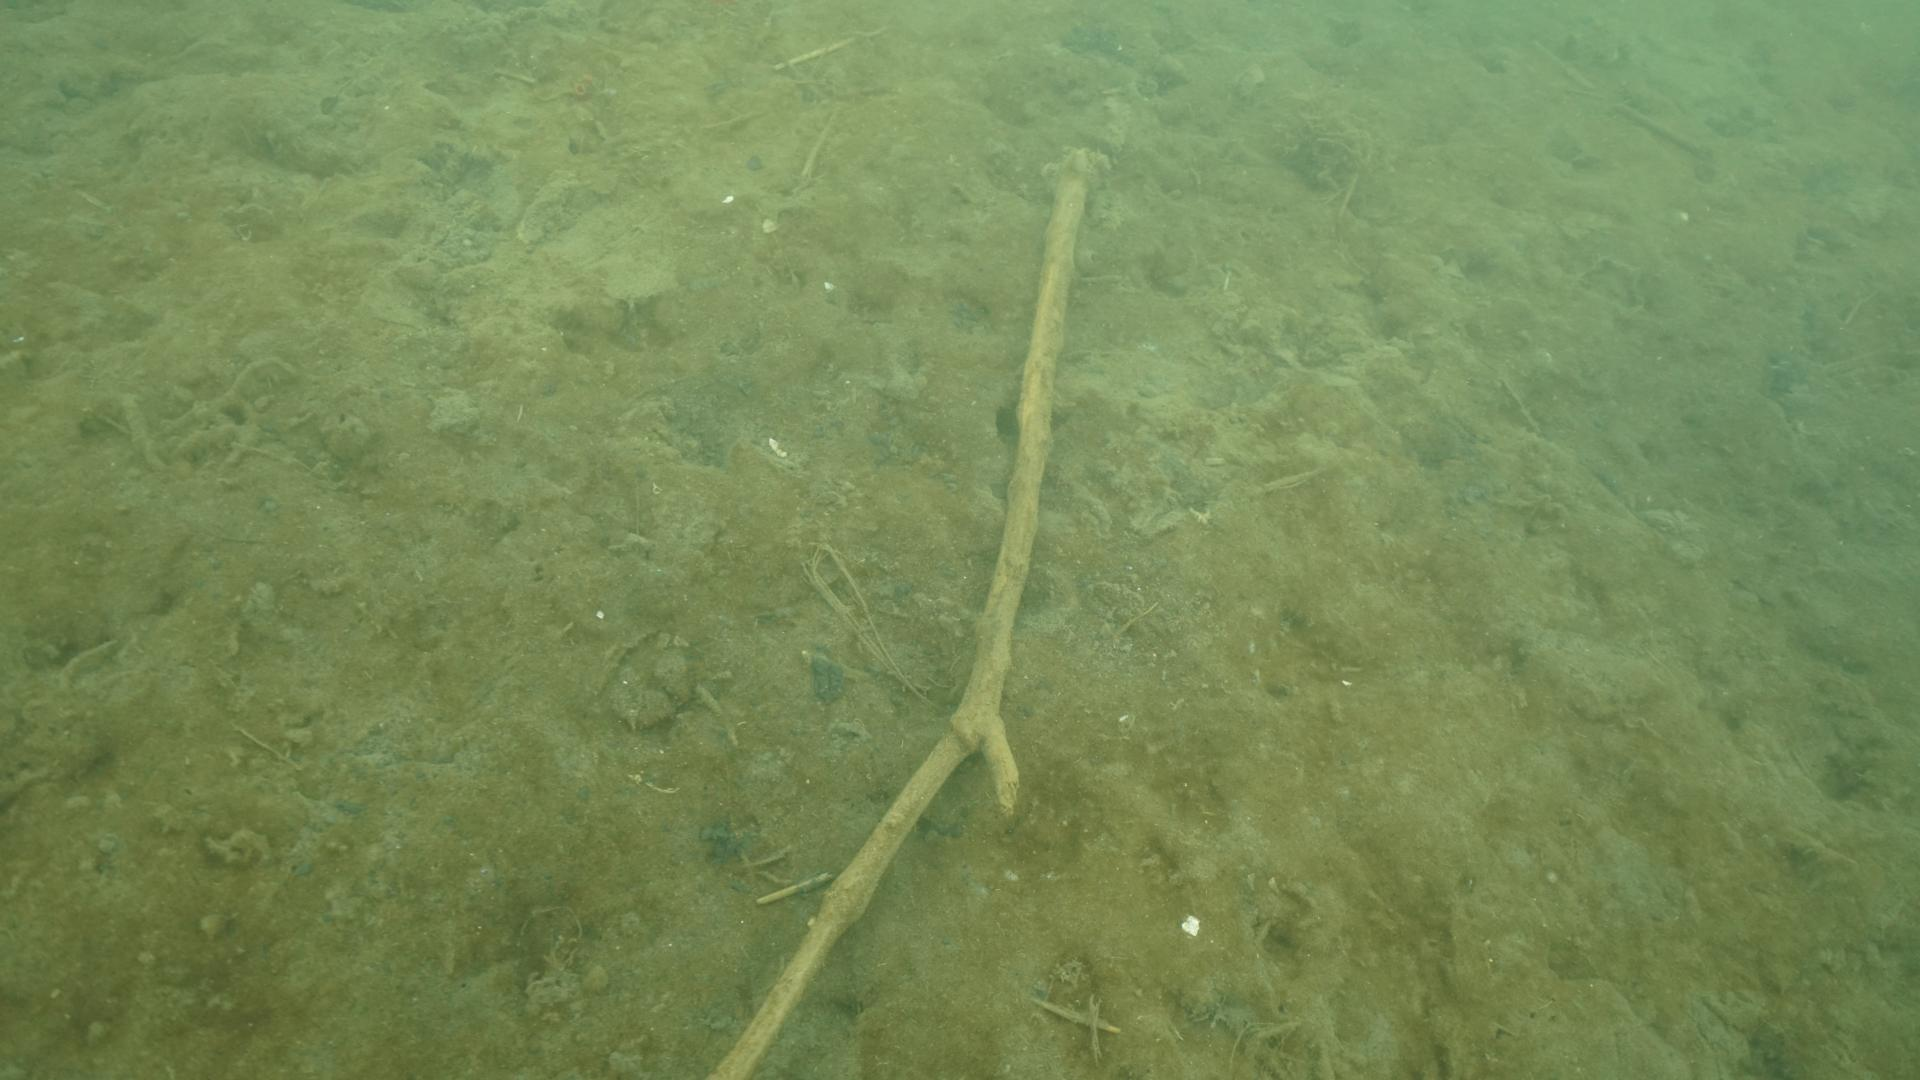wood: (705, 152, 1093, 1080)
